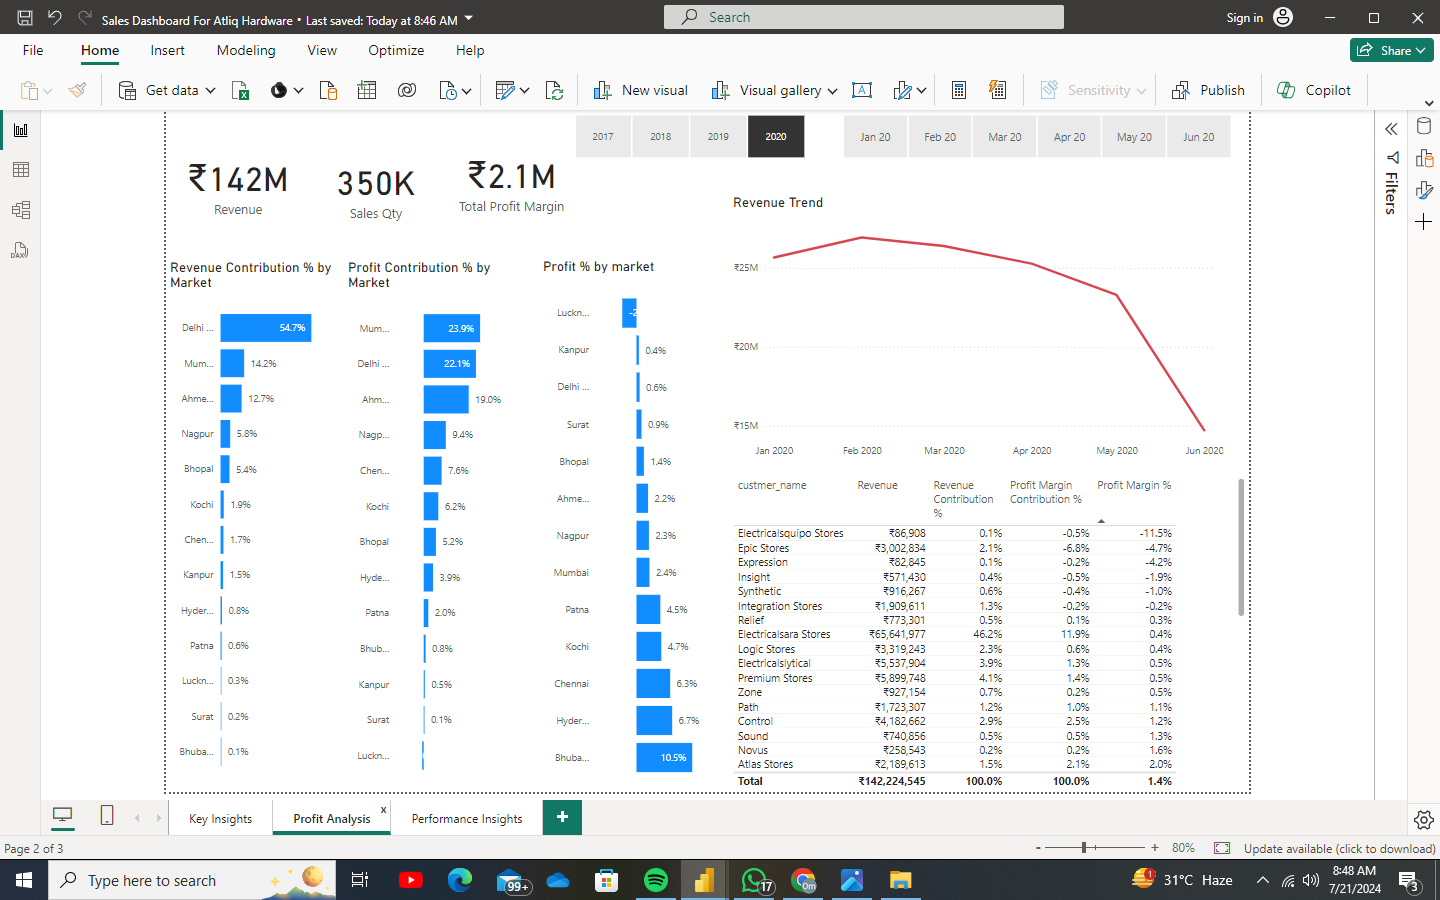

The page's visual inventory and layout, read from the dashboard file:
{"tool":"powerbi","page":{"name":"Profit Analysis","canvas":[1350,850],"ordinal":1},"visuals":[{"type":"card","fields":{"Values":["BaseMeasures (2).Revenue"]},"box":[0,0,179.6,184.8],"z":0},{"type":"card","fields":{"Values":["BaseMeasures (2).Sales Qty"]},"box":[179.6,0,164.1,193],"z":1000},{"type":"barChart","title":"Profit % by market","fields":{"Y":["BaseMeasures (2).Profit Margin %"],"Category":["sales markets.markets_name"]},"box":[464.5,184.8,230.2,664.8],"z":2000},{"type":"barChart","title":"Profit Contribution % by Market","fields":{"Y":["BaseMeasures (2).Profit Margin Contribution %"],"Category":["sales markets.markets_name"]},"box":[221.9,185.8,208.5,659.6],"z":3000},{"type":"slicer","fields":{"Values":["sales date.year"]},"box":[483.2,0,335.5,66.5],"z":4000},{"type":"slicer","fields":{"Values":["sales date.cy_date"]},"box":[818.6,0,531.7,66.5],"z":5000},{"type":"tableEx","title":"Top 5 Customers","fields":{"Values":["sales customers.custmer_name","BaseMeasures (2).Revenue","BaseMeasures (2).Revenue Contribution %","BaseMeasures (2).Profit Margin Contribution %","BaseMeasures (2).Profit Margin %"]},"box":[701.9,454.2,648.3,395.4],"z":6000},{"type":"lineChart","title":"Revenue Trend","fields":{"Y":["BaseMeasures (2).Revenue"],"Category":["sales date.cy_date"]},"box":[701.9,104.3,621.4,338.6],"z":7000},{"type":"card","fields":{"Values":["BaseMeasures (2).Total Profit Margin"]},"box":[349.9,0,161,176.5],"z":8000},{"type":"barChart","title":"Revenue Contribution % by Market","fields":{"Y":["BaseMeasures (2).Revenue Contribution %"],"Category":["sales markets.markets_name"]},"box":[0,185.8,219.9,654.5],"z":9000}]}

Visuals, with their boxes on the page's 1350x850 design canvas (x1, y1, x2, y2). These are canvas units, not pixel positions in the 1440x900 screenshot, which may show the page scaled, cropped or inside an application window:
card - BaseMeasures (2).Revenue: (left=0, top=0, right=180, bottom=185)
card - BaseMeasures (2).Sales Qty: (left=180, top=0, right=344, bottom=193)
"Profit % by market" barChart: (left=464, top=185, right=695, bottom=850)
"Profit Contribution % by Market" barChart: (left=222, top=186, right=430, bottom=845)
slicer - sales date.year: (left=483, top=0, right=819, bottom=66)
slicer - sales date.cy_date: (left=819, top=0, right=1350, bottom=66)
"Top 5 Customers" tableEx: (left=702, top=454, right=1350, bottom=850)
"Revenue Trend" lineChart: (left=702, top=104, right=1323, bottom=443)
card - BaseMeasures (2).Total Profit Margin: (left=350, top=0, right=511, bottom=176)
"Revenue Contribution % by Market" barChart: (left=0, top=186, right=220, bottom=840)
